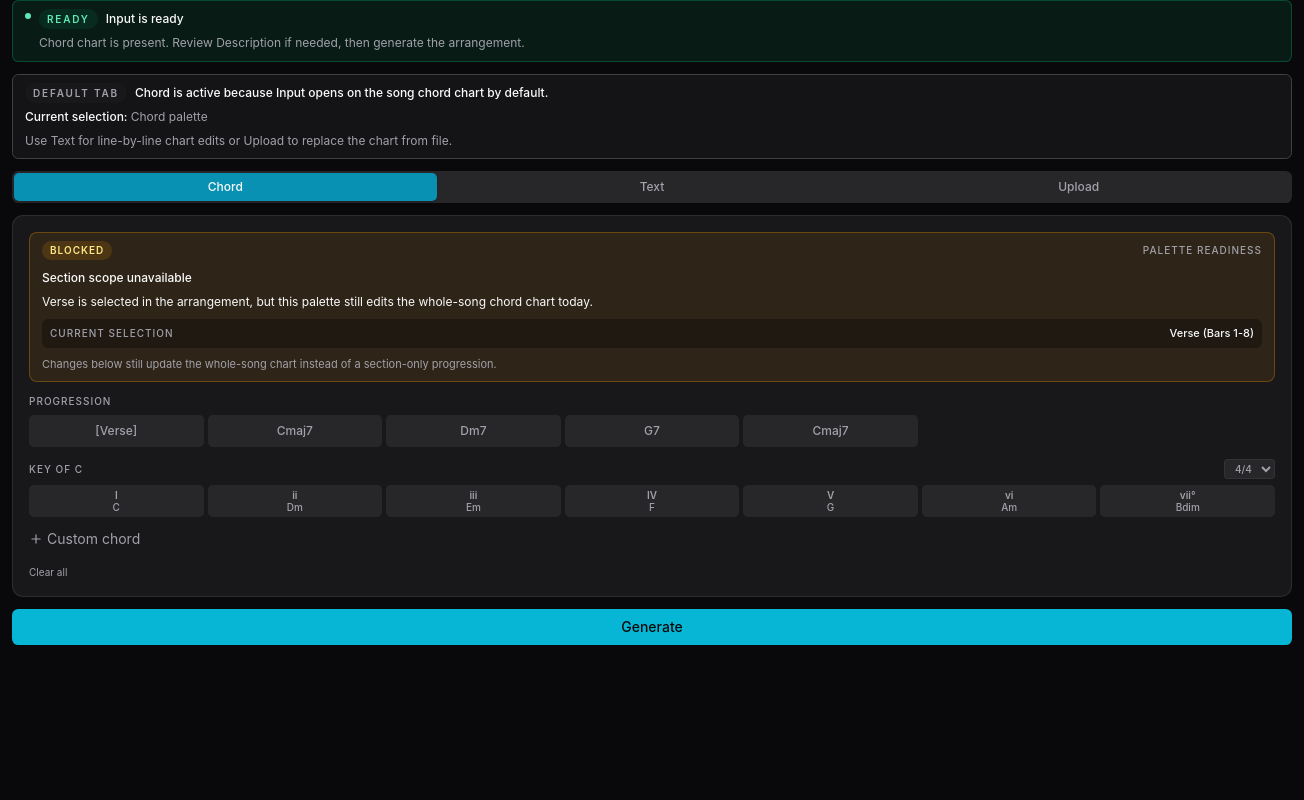
Test: InputSection upload tab › keeps section selection visible when the text tab still edits the whole-song chart
Click the button "Text" at (652, 187), box top-left (441, 173), bottom-right (863, 201)
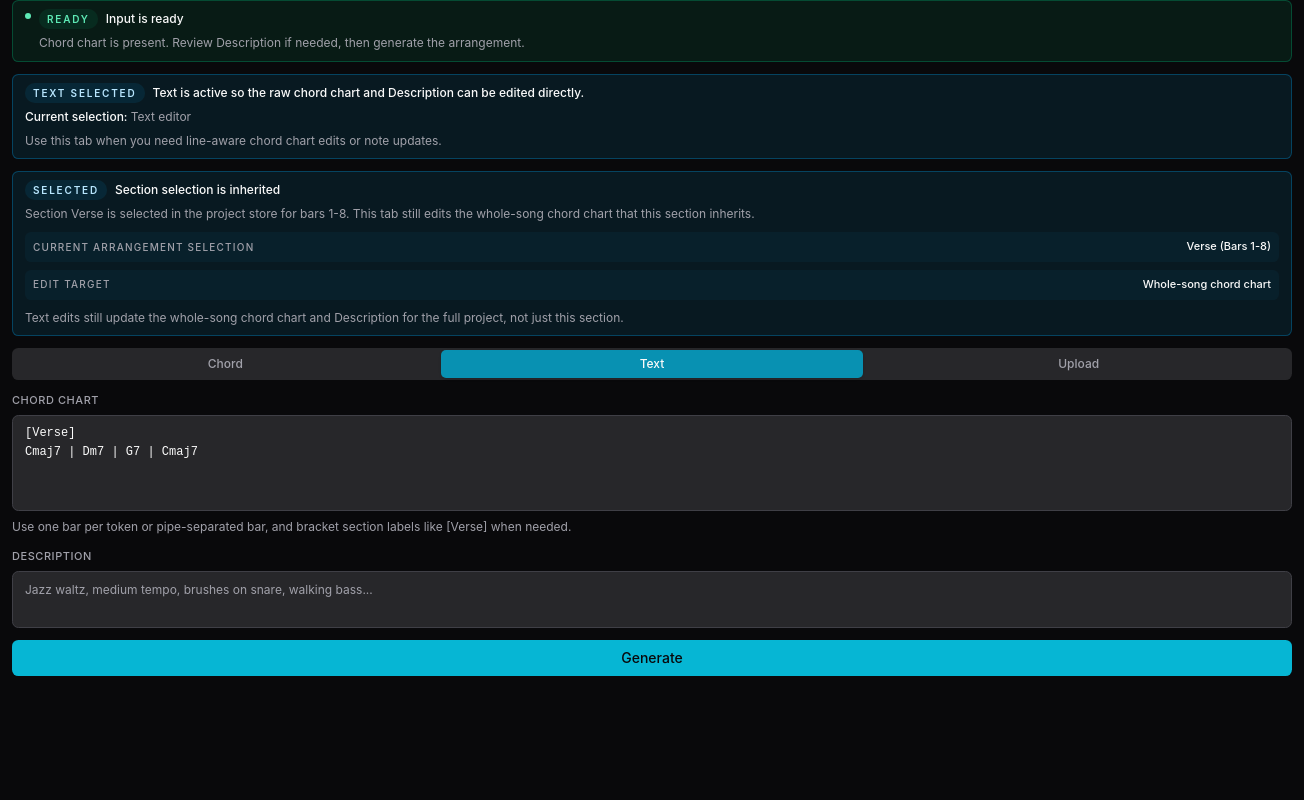
Expected: the element that starts with "Selected" shows "Section selection is inherited", top-left (115, 182), bottom-right (280, 197)
Expected: the element that starts with "Selected" shows "Section Verse is selected in the project store for bars 1-8.", top-left (25, 206), bottom-right (755, 221)
Expected: the element that starts with "Selected" shows "This tab still edits the whole-song chord chart that this section inherits.", top-left (25, 206), bottom-right (755, 221)
